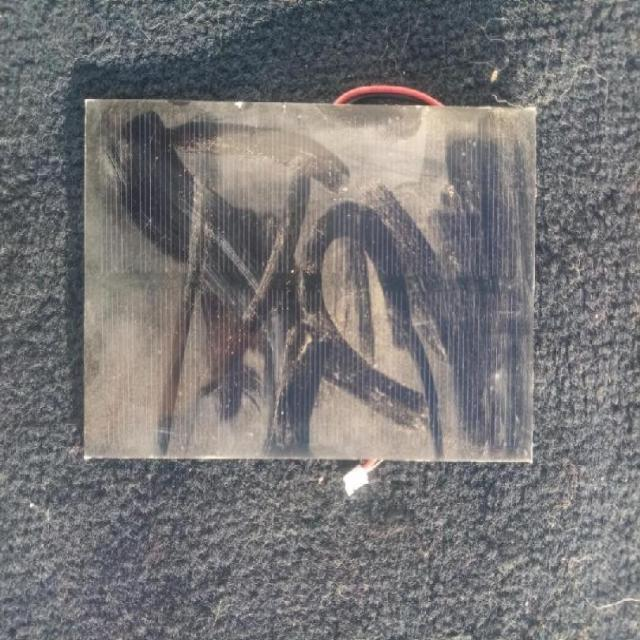faulty: (76, 95, 536, 468)
